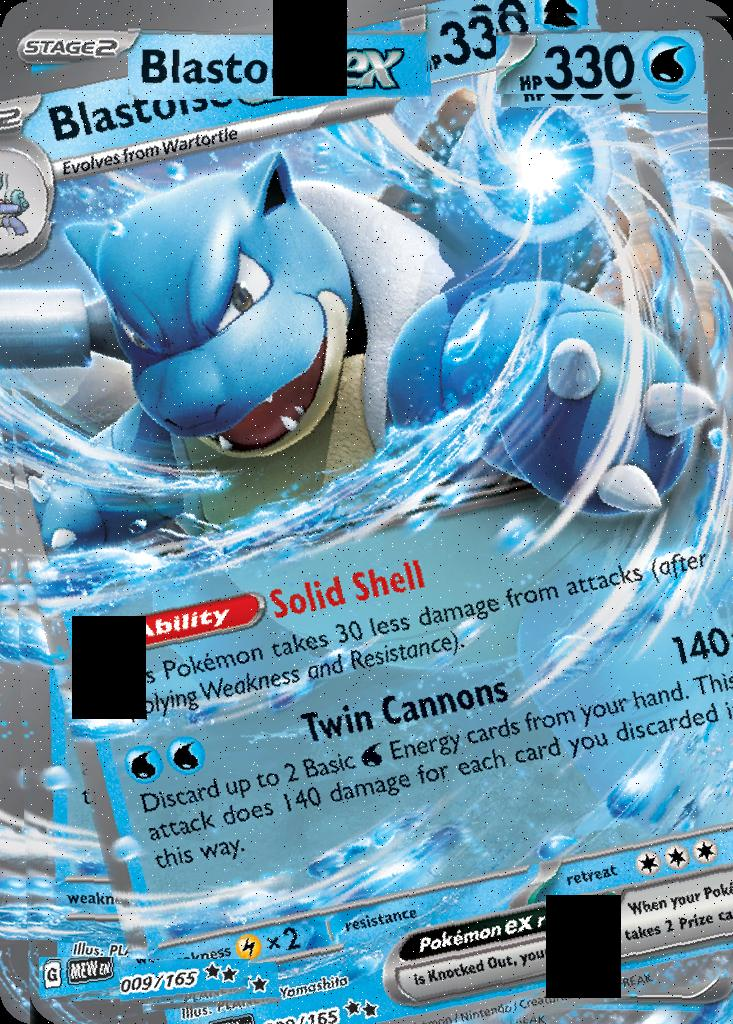card: (0, 0, 733, 1024)
hp: (496, 23, 708, 94)
name: (128, 23, 429, 95)
set num: (120, 959, 250, 1005)
set symbol: (39, 958, 121, 1001)
